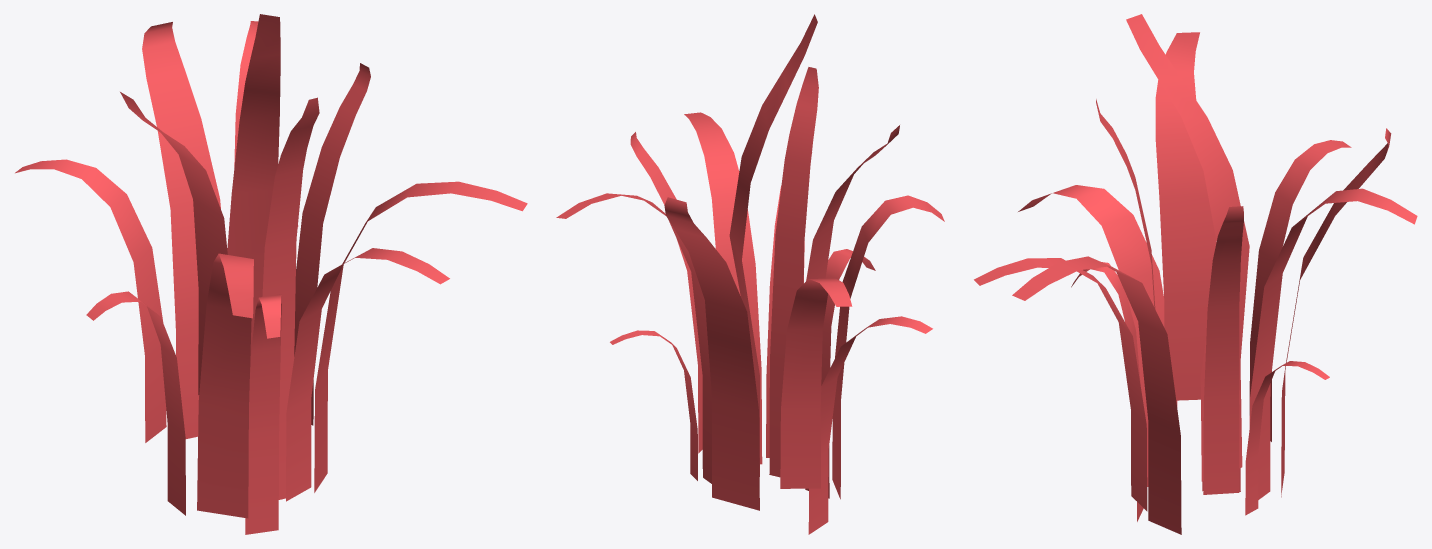
Rendered from grass.fbx.
The picture shows the model from 3 angles, left to right: view 1: azimuth 30°, elevation 25°; view 2: azimuth 150°, elevation 25°; view 3: azimuth 270°, elevation 25°; orthographic projection. The views are drawn at different scales.
Visible parts, largest first — view 1: grass; view 2: grass; view 3: grass.
Boxes of the visible parts, x1,y1,x2,y2 form: grass: (15, 14, 527, 534); grass: (556, 14, 944, 534); grass: (974, 14, 1417, 534).
Size of the model in its own units: 71.27 by 99.73 by 80.13.
